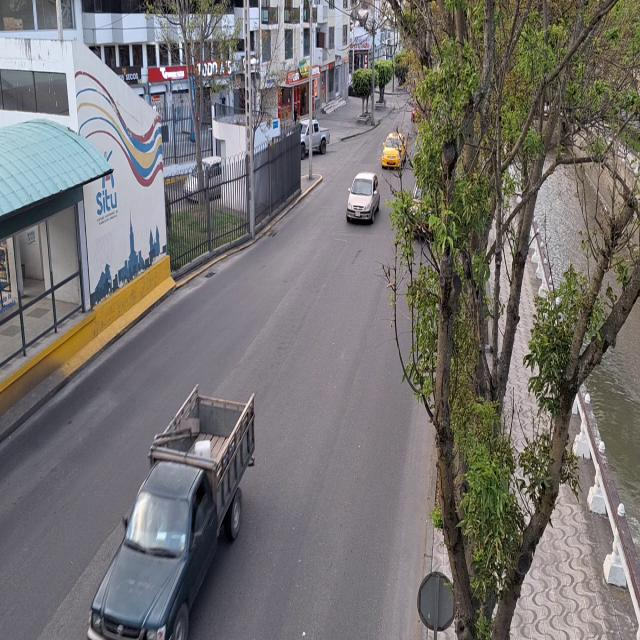CMT: (88, 390, 254, 640), (300, 121, 330, 155)
SED: (346, 171, 381, 225)
